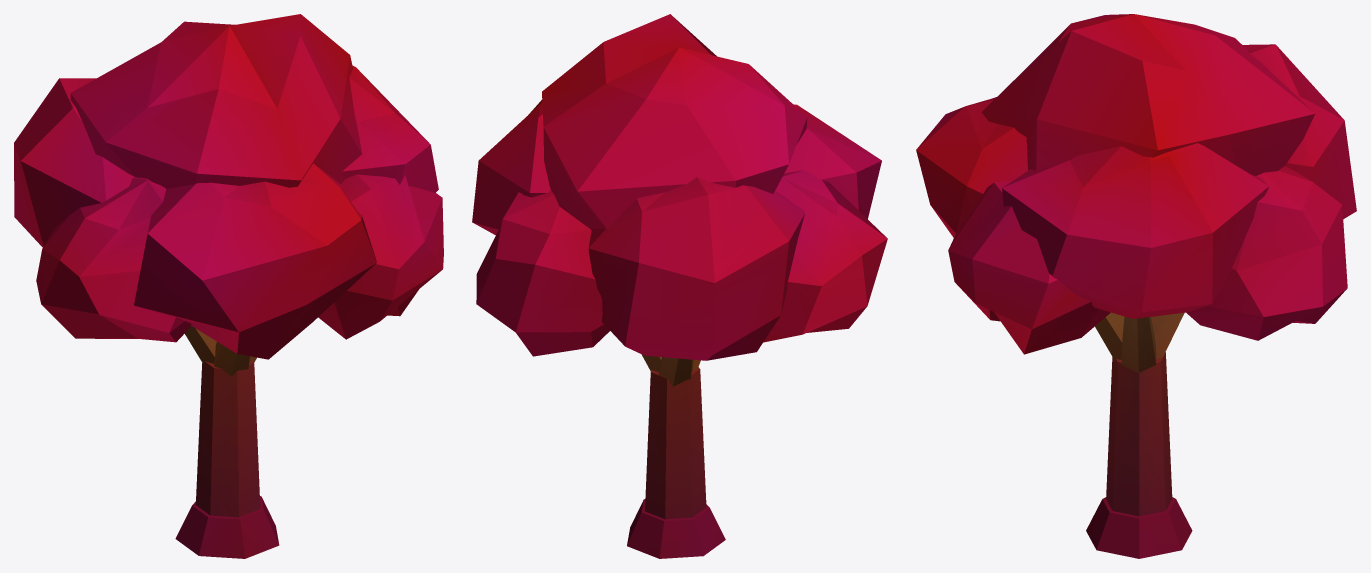
The model's file is Tree_Oak_Autumn_02.glb.
3 renders of one model, left to right at view 1: azimuth 30°, elevation 25°; view 2: azimuth 150°, elevation 25°; view 3: azimuth 270°, elevation 25°, orthographic. The views are drawn at different scales.
Visible parts, largest first — view 1: Tree_Oak_Autumn_02; view 2: Tree_Oak_Autumn_02; view 3: Tree_Oak_Autumn_02.
Part boxes in pixels (bbox=[...]): Tree_Oak_Autumn_02: bbox=[14, 14, 443, 558]; Tree_Oak_Autumn_02: bbox=[472, 14, 887, 558]; Tree_Oak_Autumn_02: bbox=[916, 14, 1356, 558].
Size of the model in its own units: 4.21 by 5.55 by 4.19.
